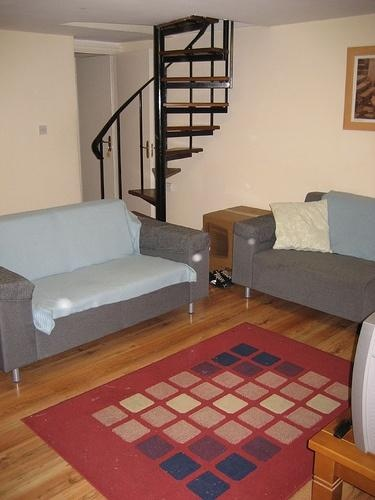sofa: (1, 199, 211, 386), (231, 192, 375, 325)
